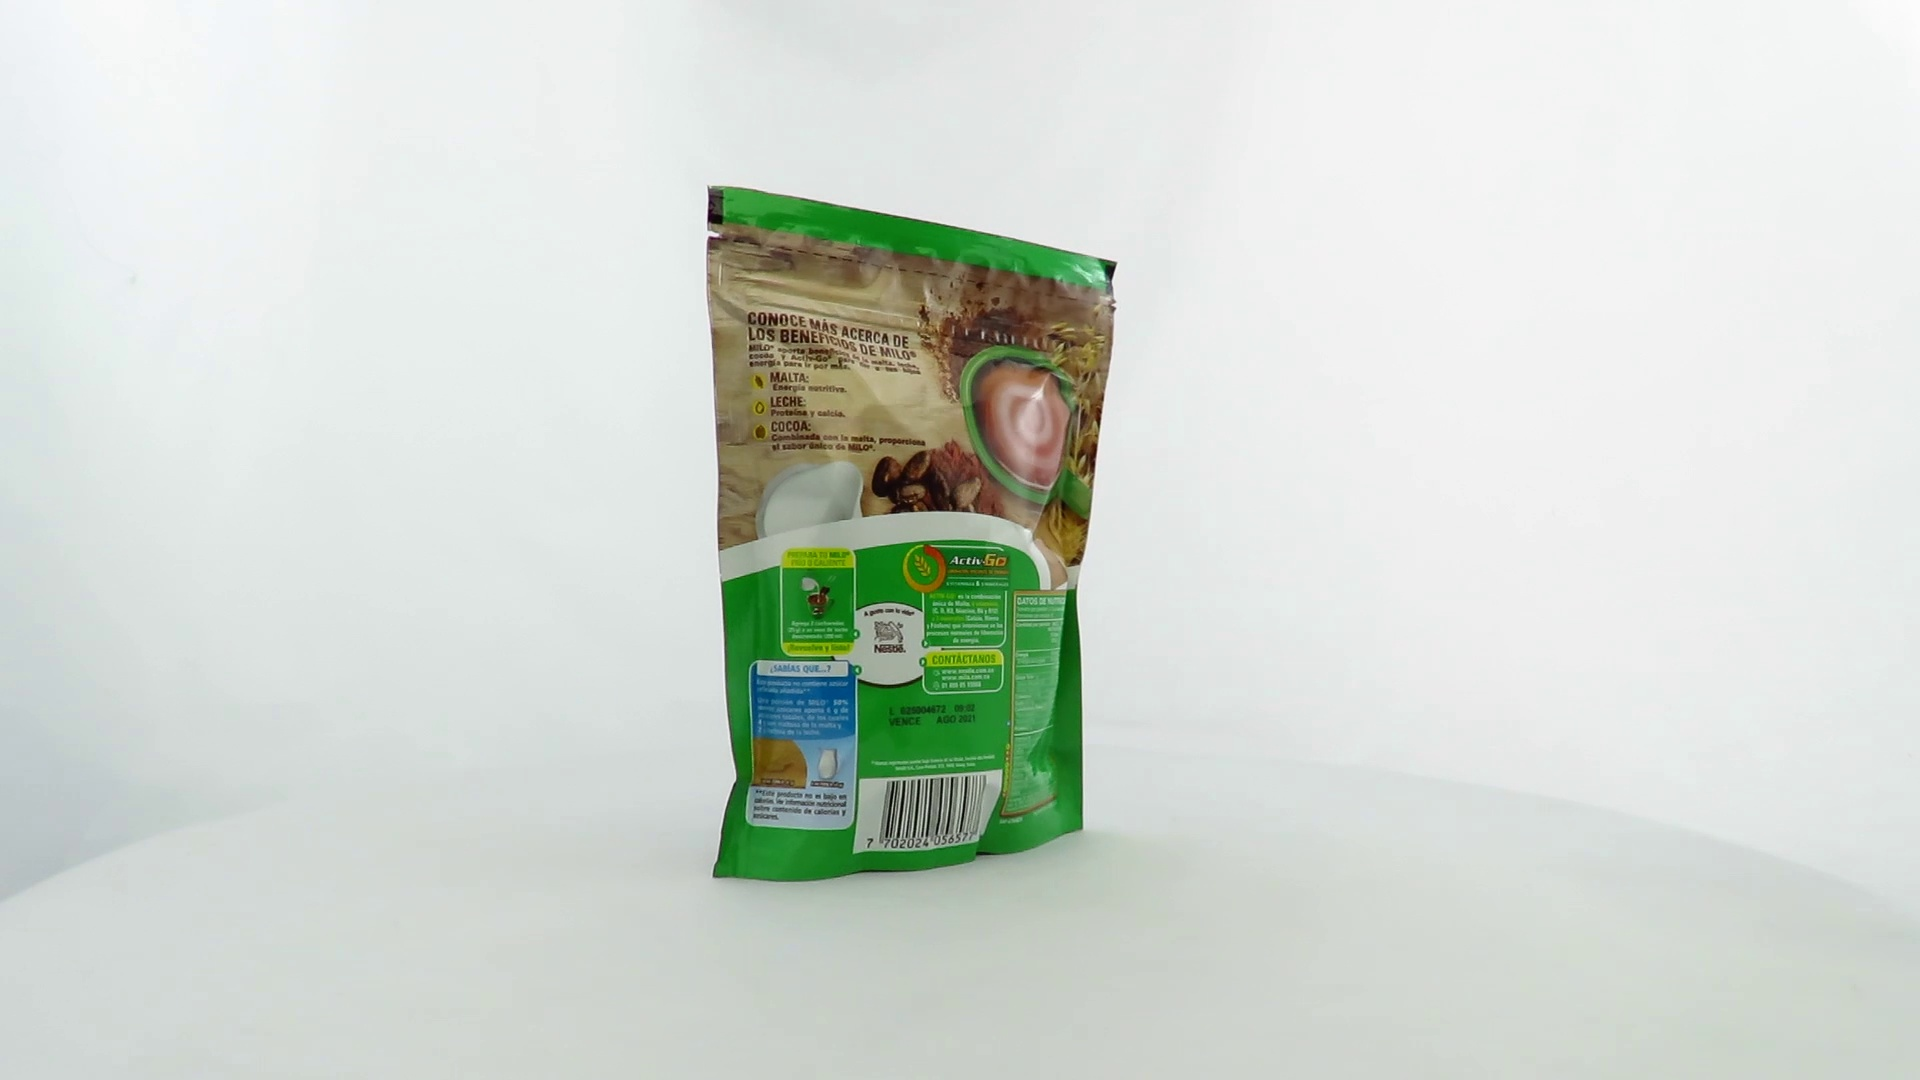COL0170205DYP20000: (702, 179, 1124, 887)
